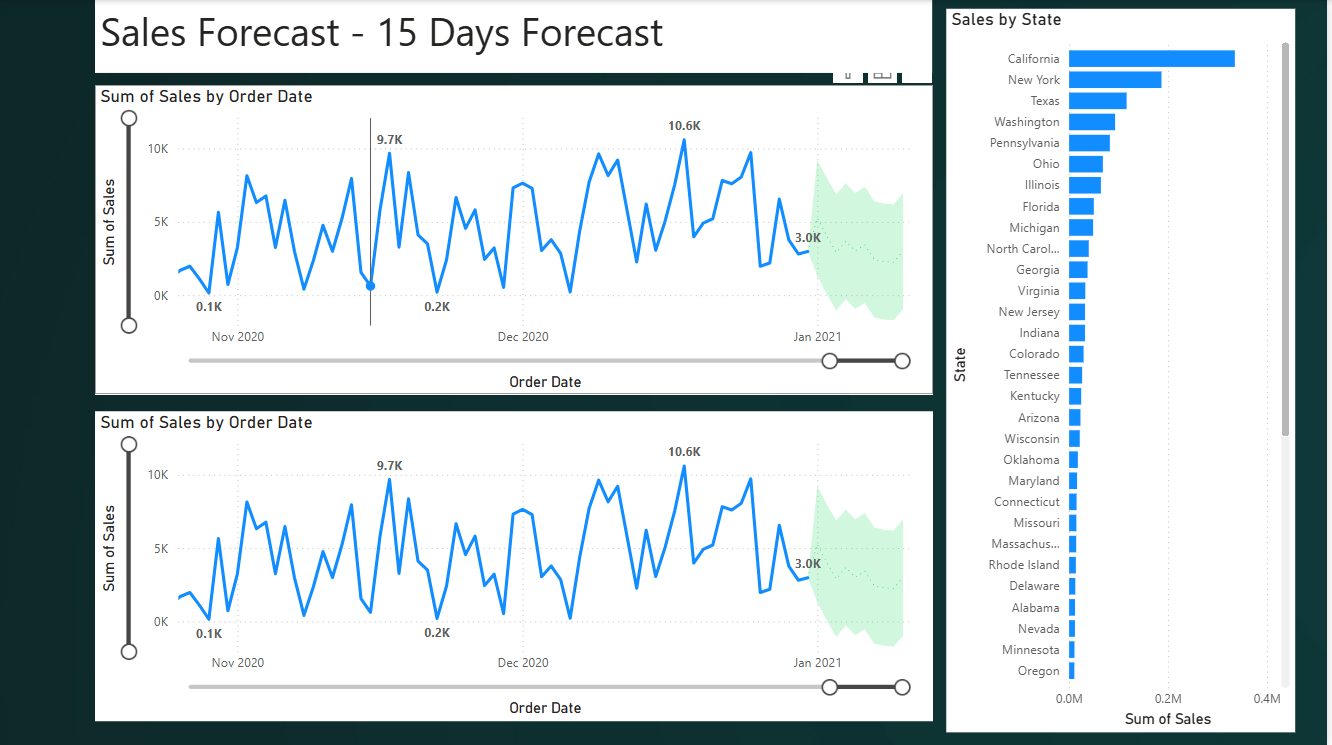

Layout of this report page (visuals, bound fields, positions):
{"tool":"powerbi","page":{"name":"Page 2","canvas":[1280,720],"ordinal":1},"visuals":[{"type":"lineChart","fields":{"Y":["Sum(Sheet1.Sales)"],"Category":["Sheet1.Order Date"]},"box":[91.7,396.7,808.3,298.3],"z":0},{"type":"clusteredBarChart","title":"Sales by State","fields":{"Y":["Sum(Sheet1.Sales)"],"Category":["Sheet1.State"]},"box":[913.3,8.3,336.7,698.3],"z":1000},{"type":"lineChart","fields":{"Y":["Sum(Sheet1.Sales)"],"Category":["Sheet1.Order Date"]},"box":[91.7,81.7,808.3,298.3],"z":2000},{"type":"textbox","box":[91.7,0,808.3,70],"z":3000}]}

Visuals, with their boxes in screenshot pixels (x1, y1, x2, y2), scaled from the page's 1280x720 canvas onto the 1332x745 screenshot:
lineChart - Sum(Sheet1.Sales) x Sheet1.Order Date: {"left": 95, "top": 410, "right": 937, "bottom": 719}
"Sales by State" clusteredBarChart: {"left": 950, "top": 9, "right": 1301, "bottom": 731}
lineChart - Sum(Sheet1.Sales) x Sheet1.Order Date: {"left": 95, "top": 85, "right": 937, "bottom": 393}
textbox: {"left": 95, "top": 0, "right": 937, "bottom": 72}
